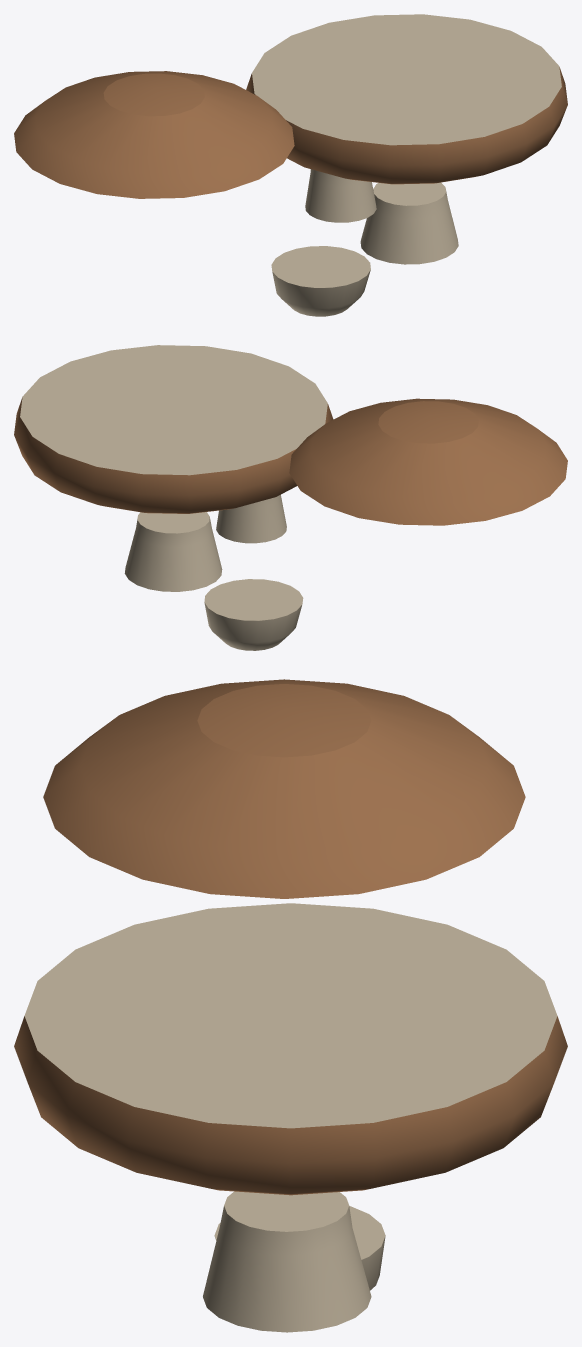
The model's file is CutMushroomFBX.fbx.
3 renders of one model, top to bottom at view 1: azimuth 30°, elevation 25°; view 2: azimuth 150°, elevation 25°; view 3: azimuth 270°, elevation 25°, orthographic. The views are drawn at different scales.
Visible parts, largest first — view 1: pCube9, pCylinder9, pCube7, pCube6, pCube8; view 2: pCube9, pCylinder9, pCube7, pCube6, pCube8; view 3: pCube9, pCylinder9, pCube7, pCube6.
Part boxes in pixels (box(x1,y1,x2,y2)): pCube9: box(246, 14, 567, 184); pCylinder9: box(14, 71, 294, 198); pCube7: box(360, 182, 458, 264); pCube6: box(271, 246, 370, 316); pCube8: box(305, 169, 376, 222); pCube9: box(14, 345, 333, 513); pCylinder9: box(289, 398, 567, 525); pCube7: box(124, 512, 222, 591); pCube6: box(204, 579, 303, 650); pCube8: box(216, 494, 286, 543); pCube9: box(14, 903, 567, 1195); pCylinder9: box(43, 679, 525, 898); pCube7: box(203, 1191, 371, 1332); pCube6: box(214, 1206, 385, 1290).
Bounding box in the file's own units: 3.2 × 1.6 × 1.74.
